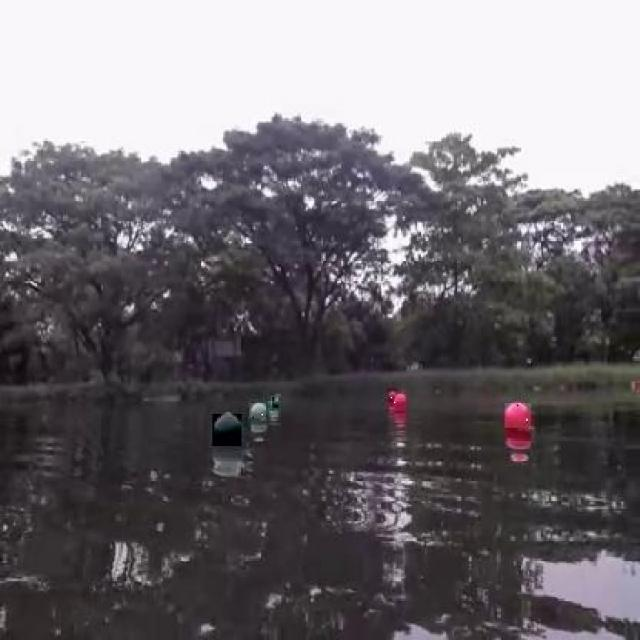green_ball: (213, 414, 242, 446), (249, 402, 266, 425), (266, 394, 279, 414)
red_ball: (505, 403, 533, 437), (392, 392, 408, 410), (387, 387, 399, 405)
